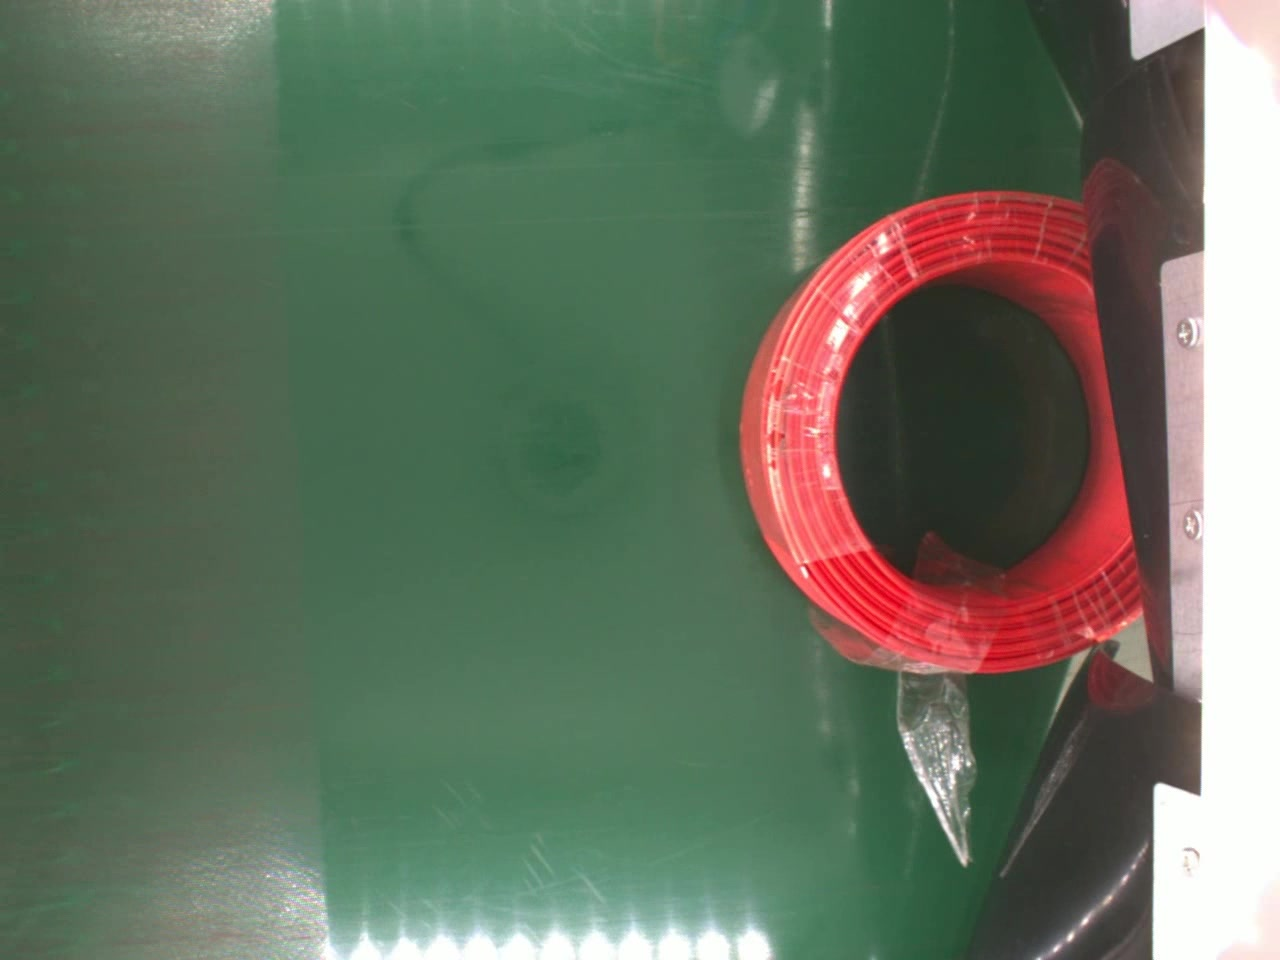red: (736, 190, 1144, 676)
